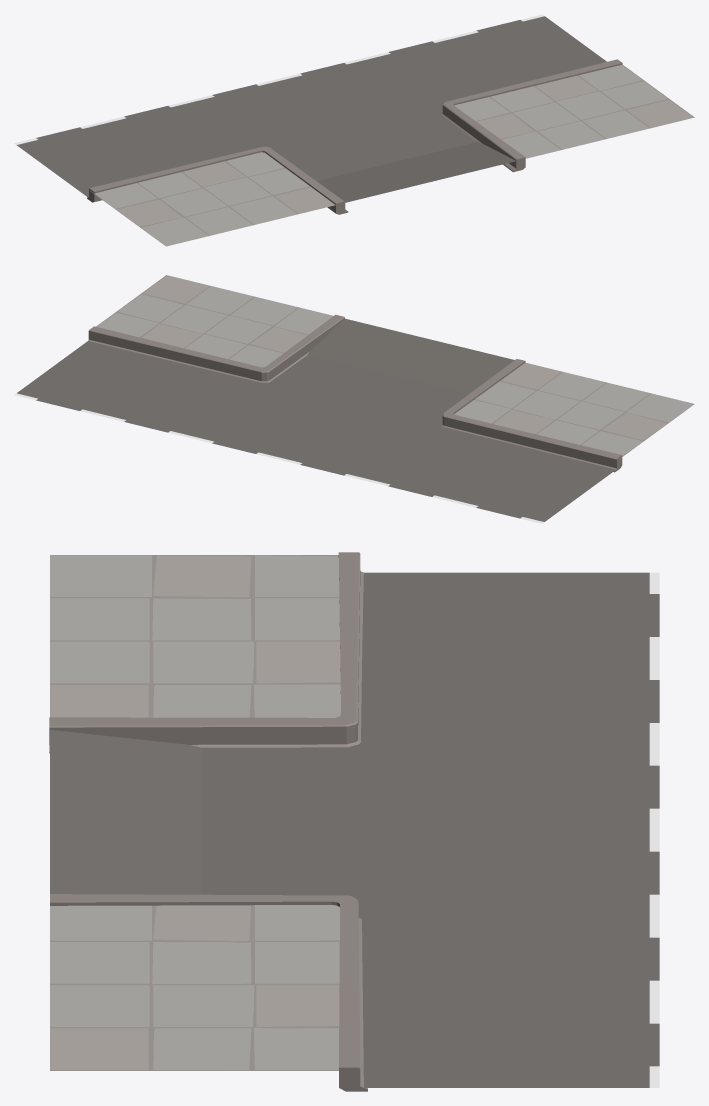
File: Road_07.fbx
3 renders of one model, top to bottom at view 1: azimuth 30°, elevation 25°; view 2: azimuth 150°, elevation 25°; view 3: azimuth 270°, elevation 25°, orthographic. The views are drawn at different scales.
Parts seen in each view (by area): view 1: Road_07; view 2: Road_07; view 3: Road_07.
Boxes of the visible parts, left/top/right/bottom form: Road_07: left=14, top=14, right=694, bottom=246; Road_07: left=14, top=275, right=694, bottom=523; Road_07: left=49, top=552, right=659, bottom=1091.
Size of the model in its own units: 24.02 by 0.5208 by 12.01.
